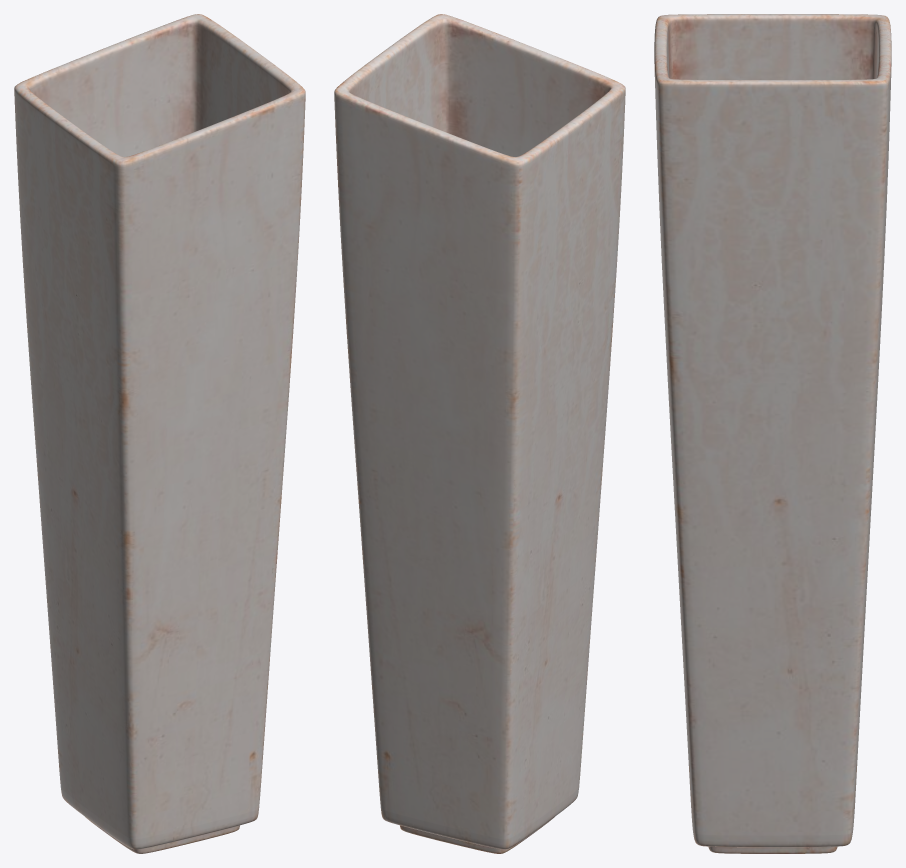
Rendered from ceramic_vase_03.glb.
The picture shows the model from 3 angles, left to right: view 1: azimuth 30°, elevation 25°; view 2: azimuth 150°, elevation 25°; view 3: azimuth 270°, elevation 25°; orthographic projection. The views are drawn at different scales.
Visible parts, largest first — view 1: ceramic_vase_03; view 2: ceramic_vase_03; view 3: ceramic_vase_03.
Part boxes in pixels (bbox=[...]): ceramic_vase_03: bbox=[14, 14, 305, 853]; ceramic_vase_03: bbox=[334, 14, 625, 853]; ceramic_vase_03: bbox=[654, 14, 891, 853].
Size of the model in its own units: 0.1122 by 0.4144 by 0.1122.
1 material, 1 textured.
